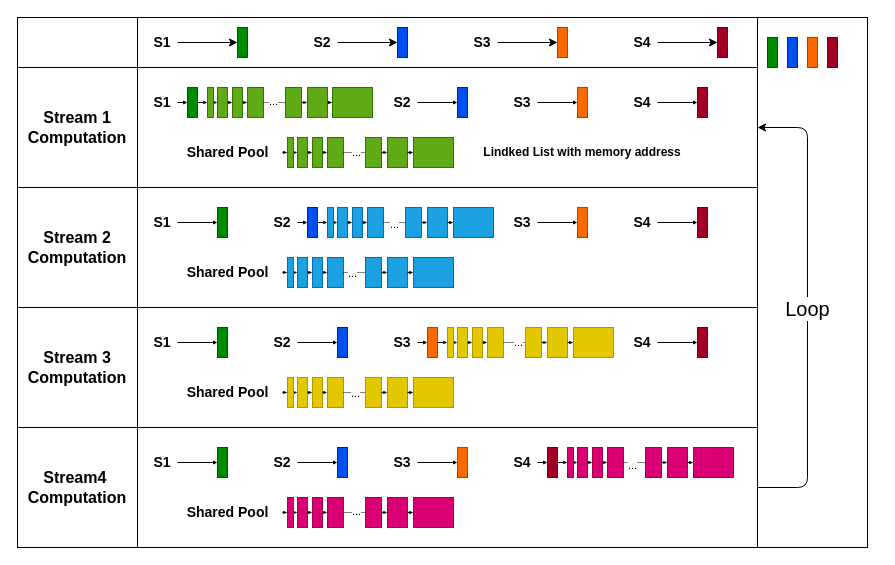
Image size: 895x565. Some labels were removed from this diagram. The centre of each missing label's shape, as x and y in pixels:
"Init" belongs at (77,42).
"Stream Private Memory" belongs at (812,282).
